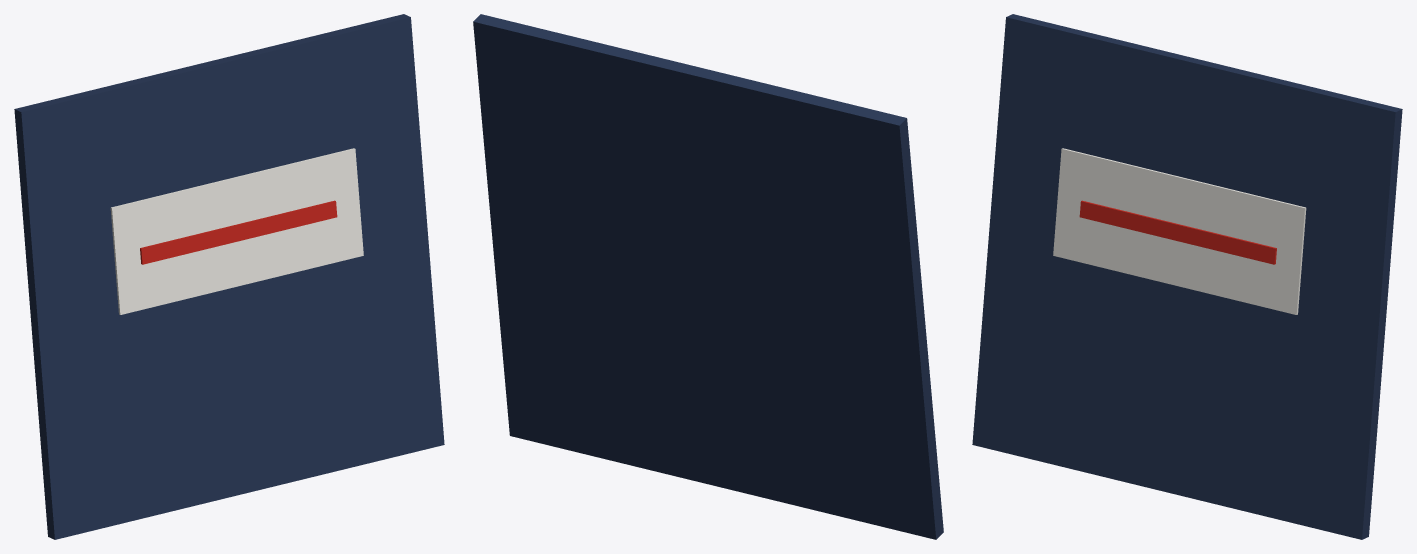
Rendered from private_record.glb.
3 renders of one model, left to right at view 1: azimuth 30°, elevation 25°; view 2: azimuth 150°, elevation 25°; view 3: azimuth 330°, elevation 25°, orthographic. The views are drawn at different scales.
Parts seen in each view (by area): view 1: sleeve_sleeve_private, label_white, text_cross_red; view 2: sleeve_sleeve_private; view 3: sleeve_sleeve_private, label_white, text_cross_red.
Part boxes in pixels (x1=…): sleeve_sleeve_private: x1=14, y1=14, x2=444, y2=539; label_white: x1=110, y1=148, x2=363, y2=314; text_cross_red: x1=140, y1=200, x2=337, y2=264; sleeve_sleeve_private: x1=473, y1=14, x2=943, y2=539; sleeve_sleeve_private: x1=972, y1=14, x2=1402, y2=539; label_white: x1=1053, y1=148, x2=1306, y2=314; text_cross_red: x1=1079, y1=200, x2=1276, y2=264.
Bounding box in the file's own units: 0.32 × 0.3179 × 0.0577.
